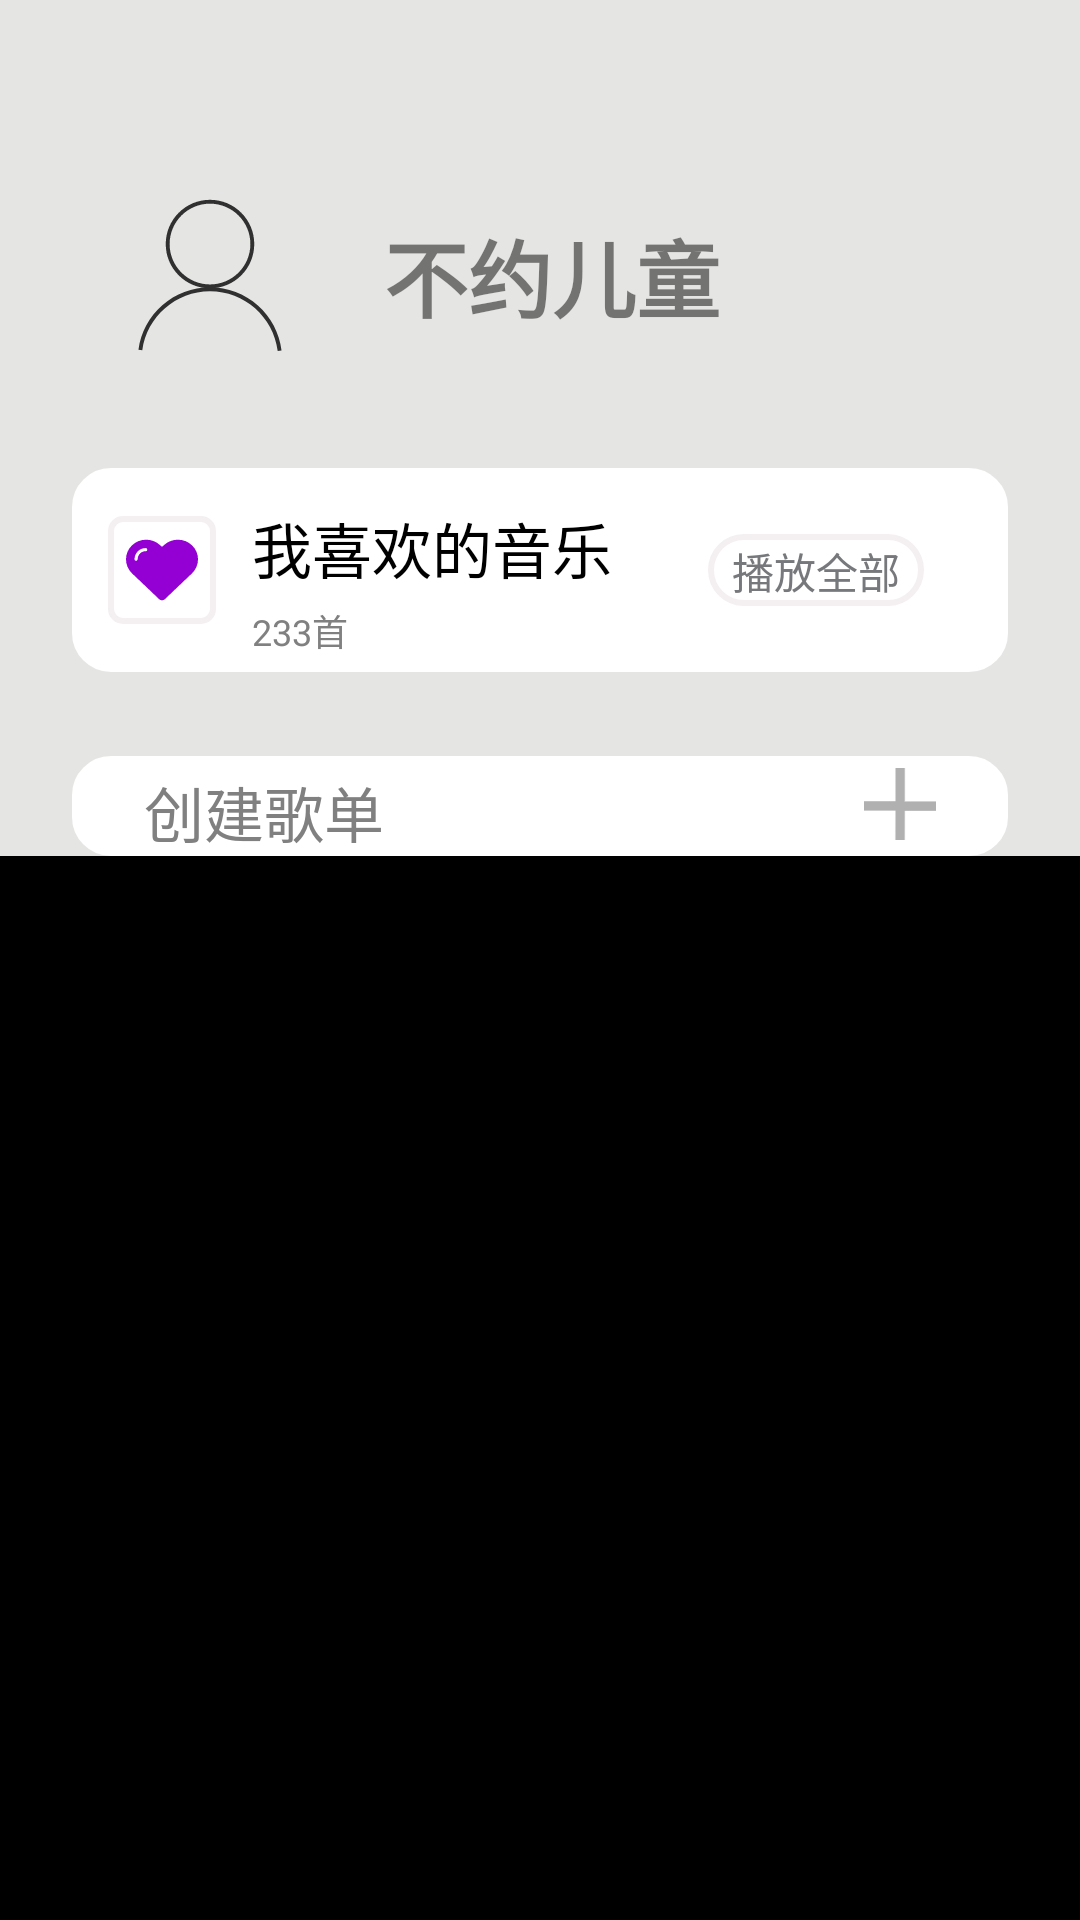

Icon click points for this 1080x1920 phone screenshot, format (x,y):
创建歌单: (900,804)
用户头像: (210,275)
